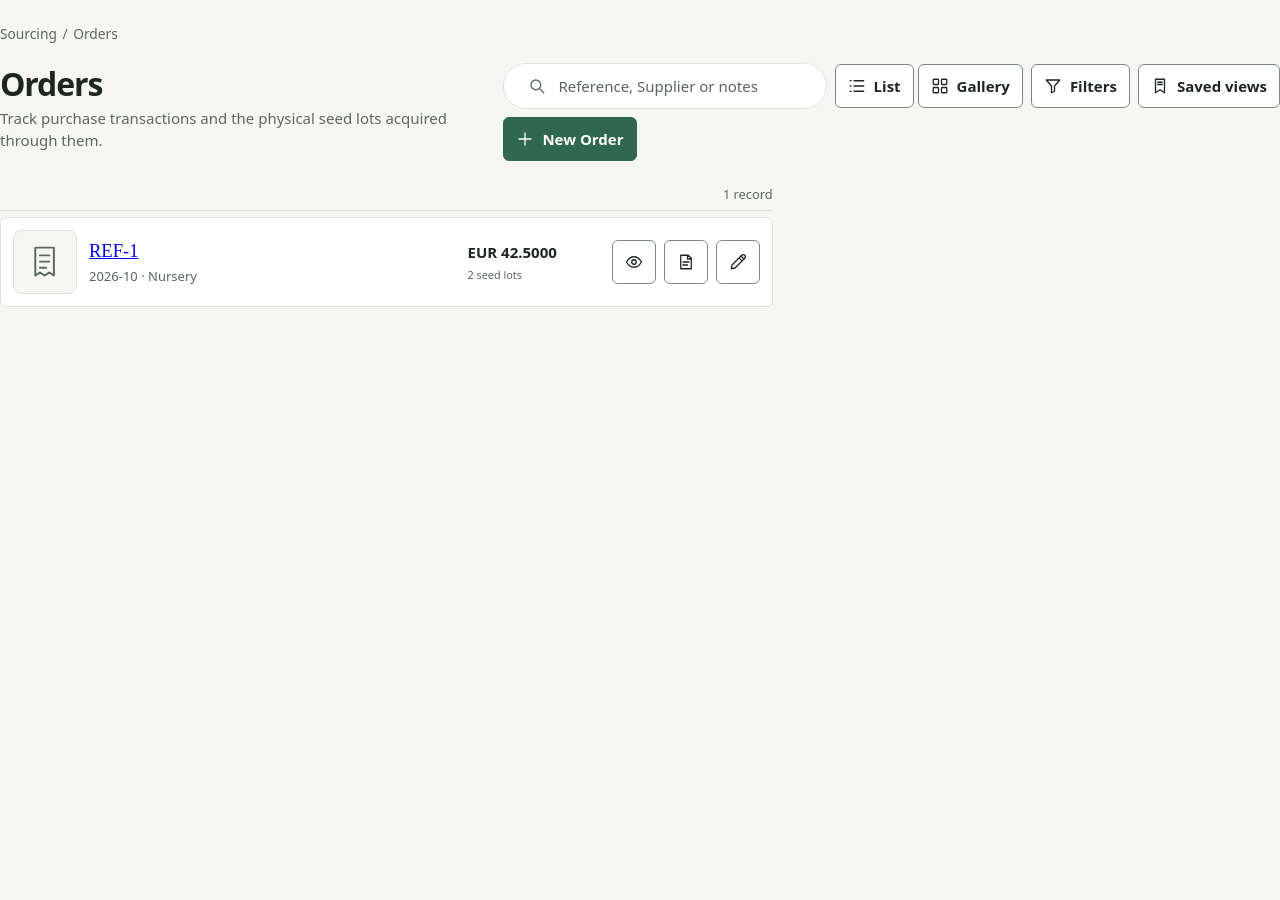
directory exposes exact price, partial date, authoritative count and a hidden search label
The width and height of the screenshot is (1280, 900).
Expected: the text "EUR 42.5000" is shown, [468,242,557,262]
Expected: the text "2026-10 · Nursery" is shown, [89,267,197,285]
Click the button named "Quick preview REF-1" at [634, 262], box [612,240,656,284]
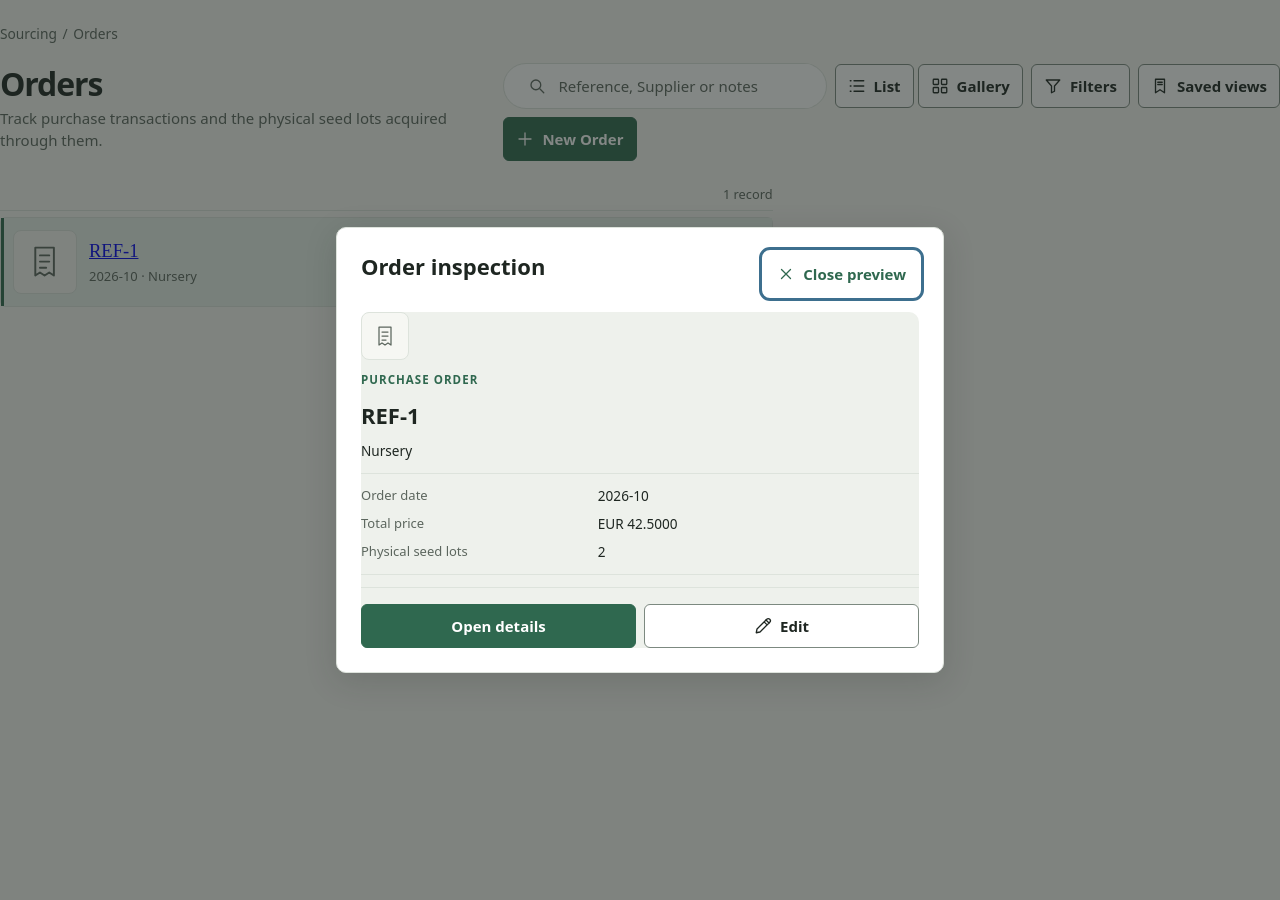
Expected: the list item named "Quick preview REF-1" has attribute data-selected="true", [1,218,772,306]
Click the button "Close preview" at [842, 274], box [764,252,919,296]
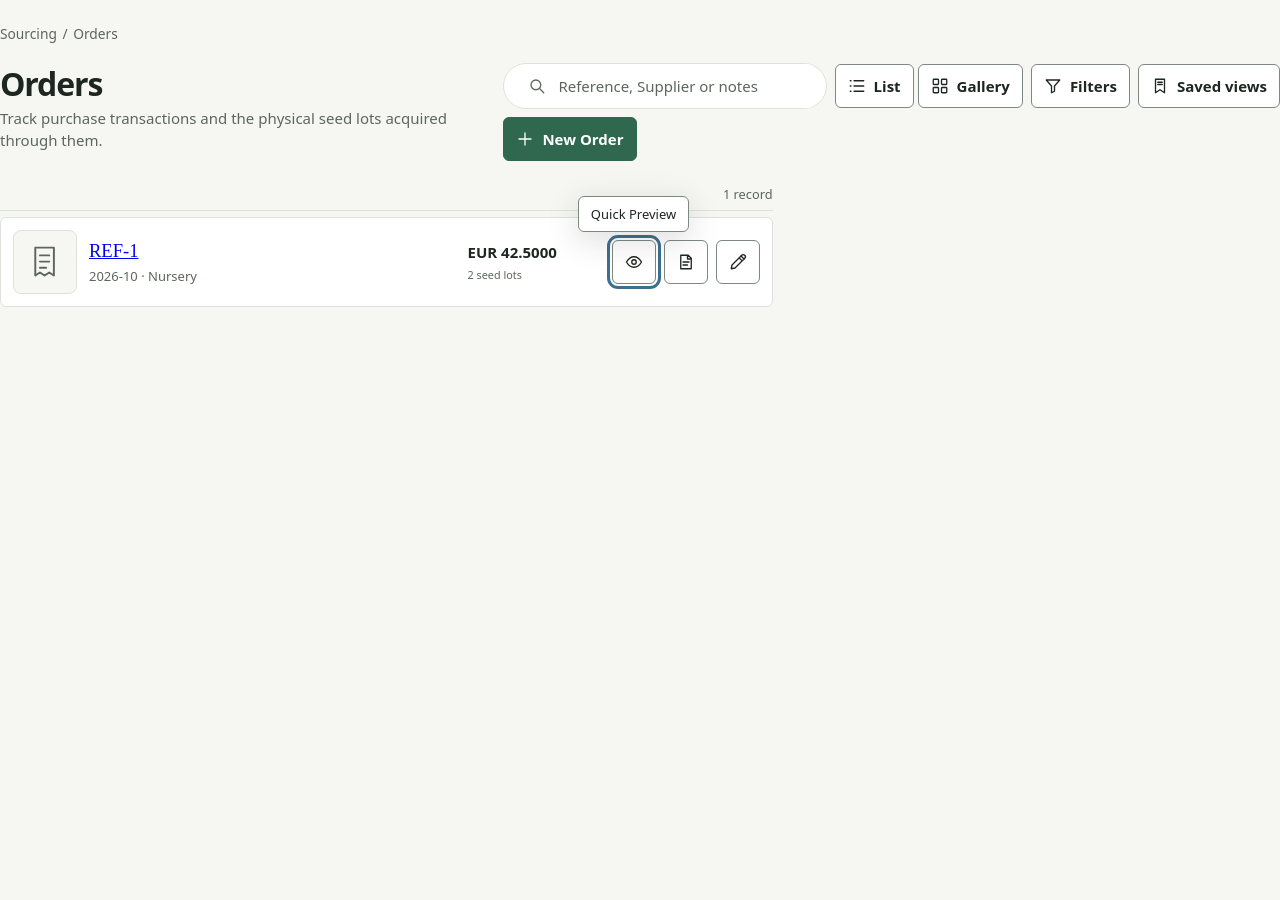
Type "ABC" into the search field named "Search Orders" at [680, 86], box [546,64,814,108]
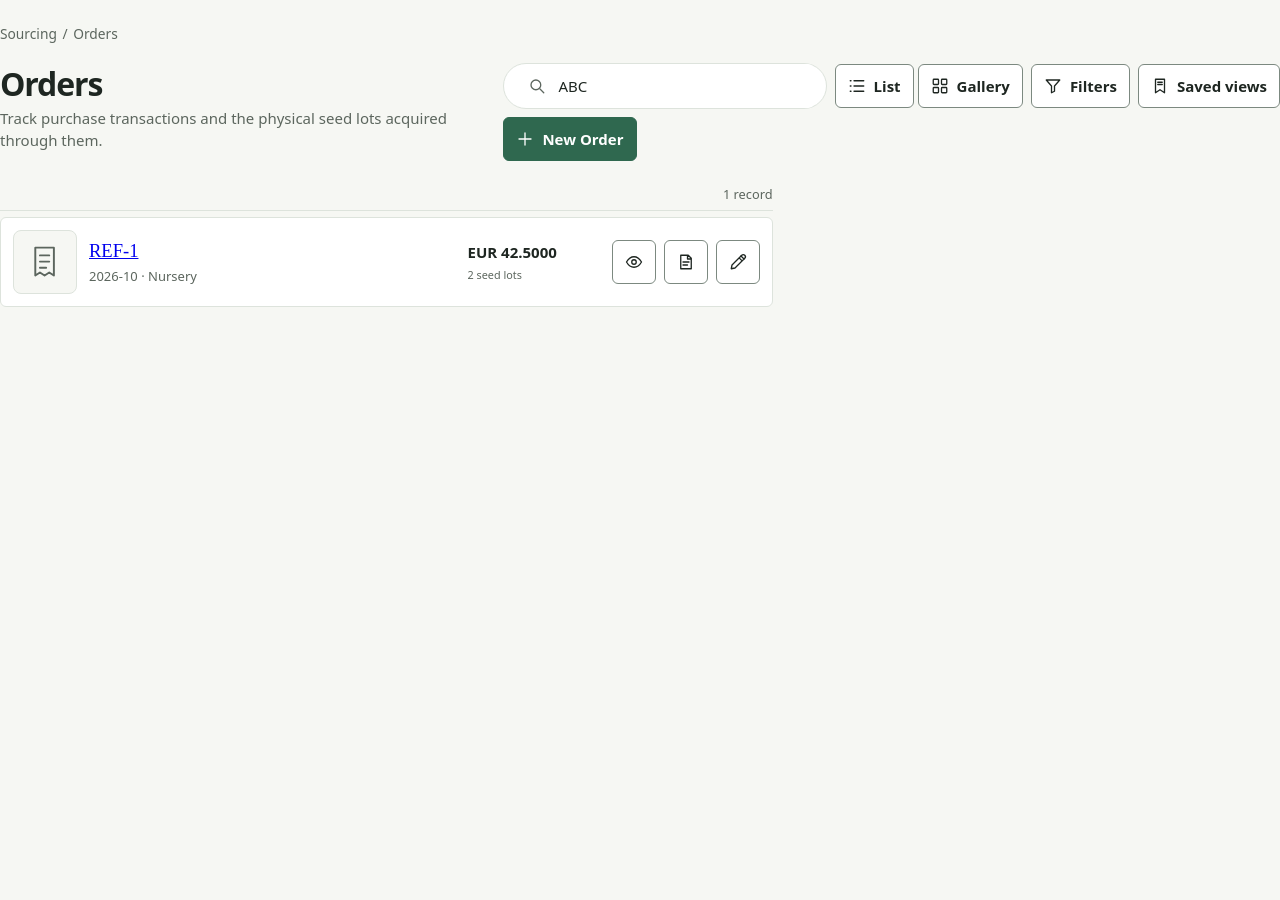
Click the button "Filters" at [1080, 86], box [1031,64,1130,108]
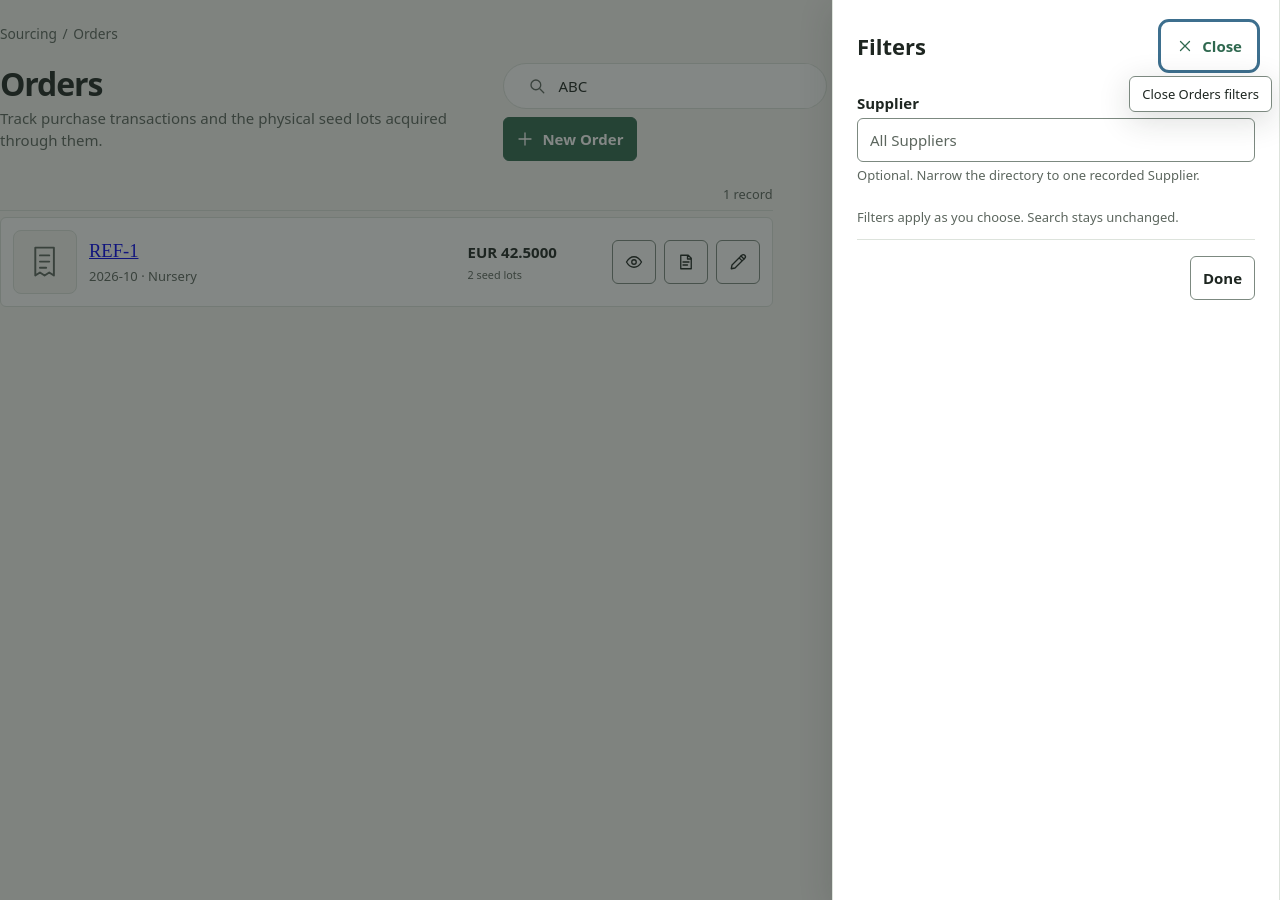
Click the dropdown labelled "Supplier" at [1056, 140], box [857,118,1255,162]
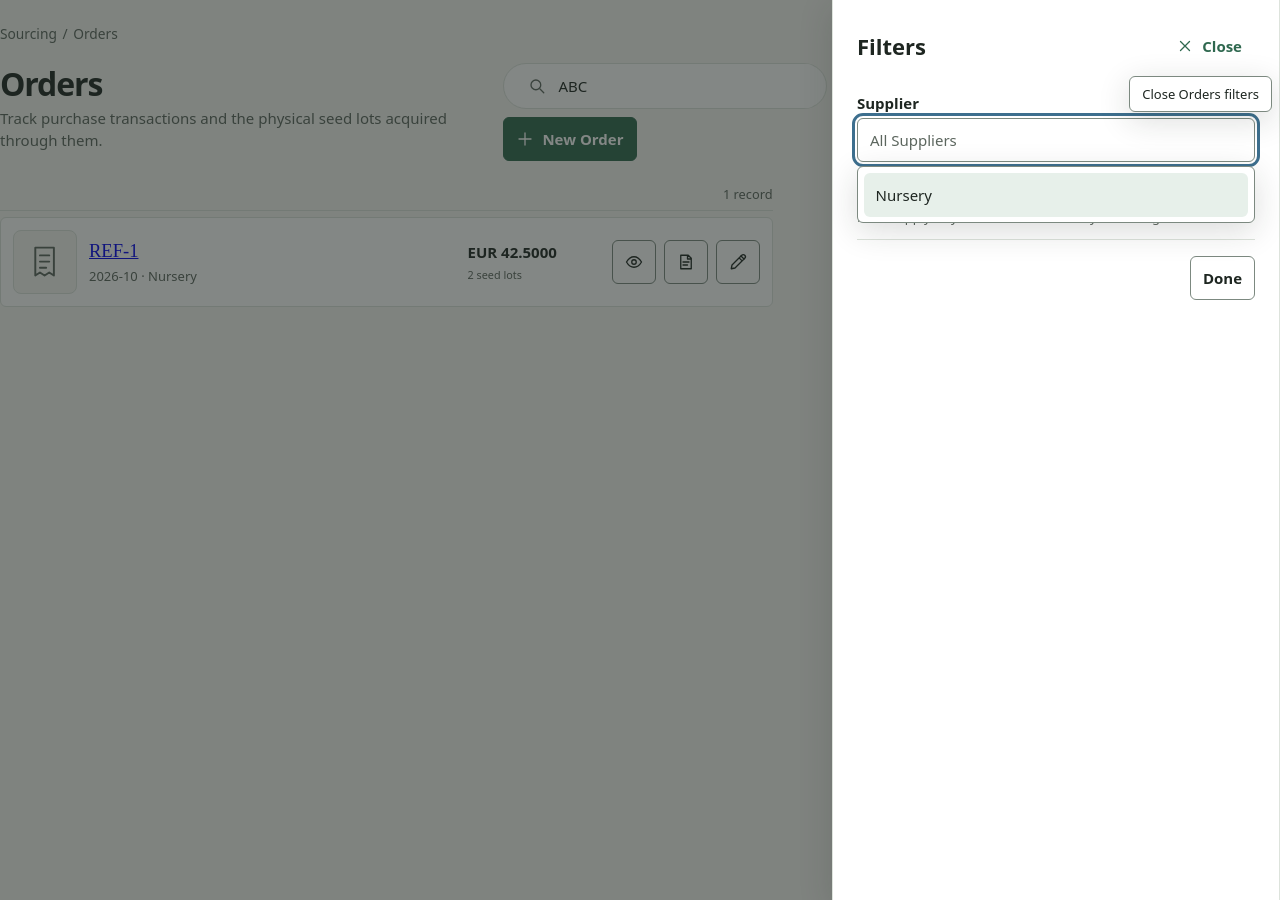
Click the button "Nursery" at [904, 195], box [864,173,1248,217]
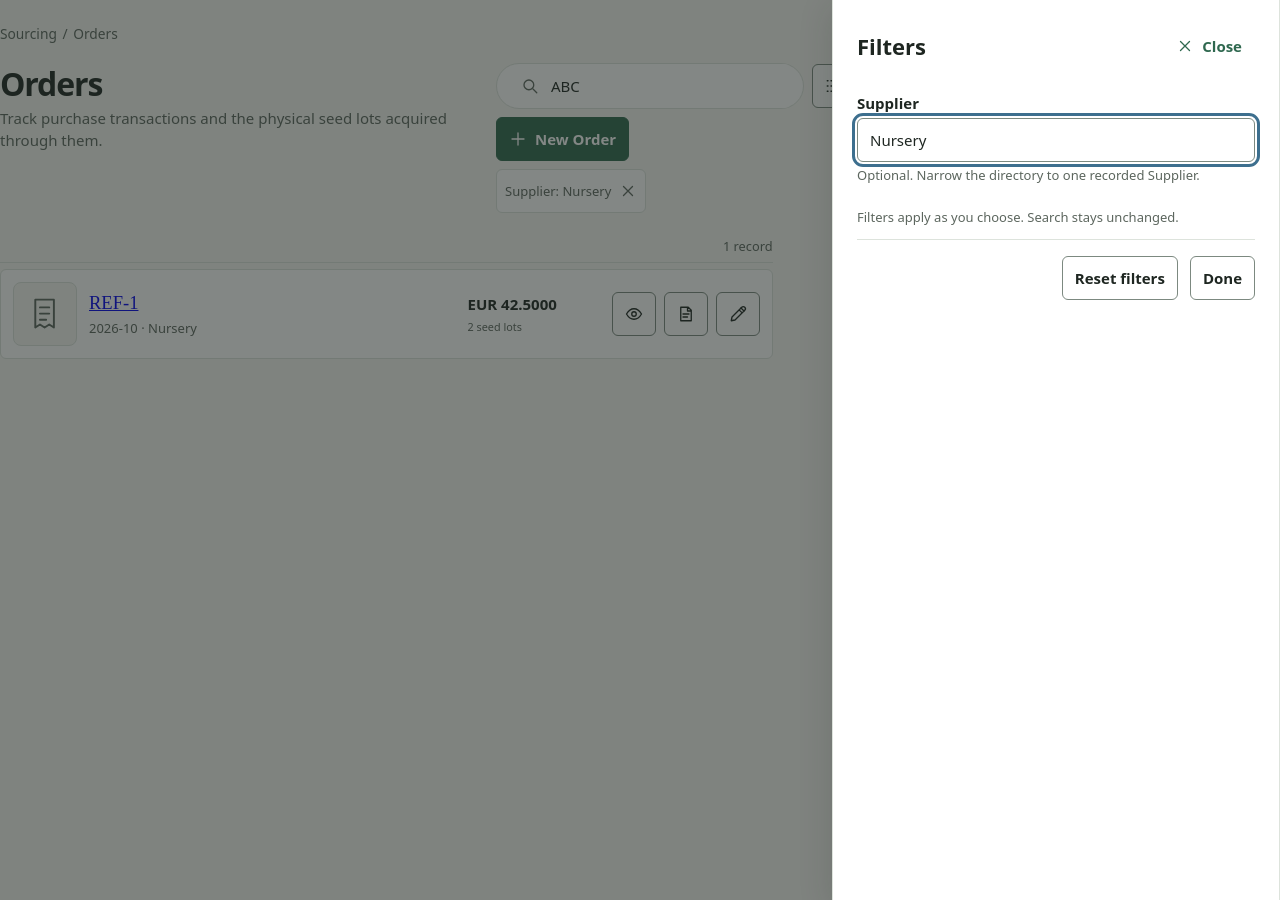
Expected: the button with aria-label "Remove supplier filter" reads "Supplier: Nursery", [496,169,646,213]
